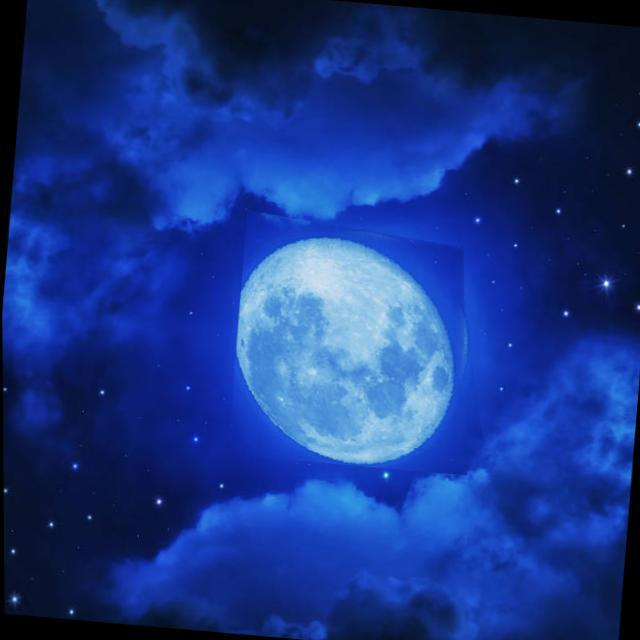moon: (225, 208, 490, 475)
